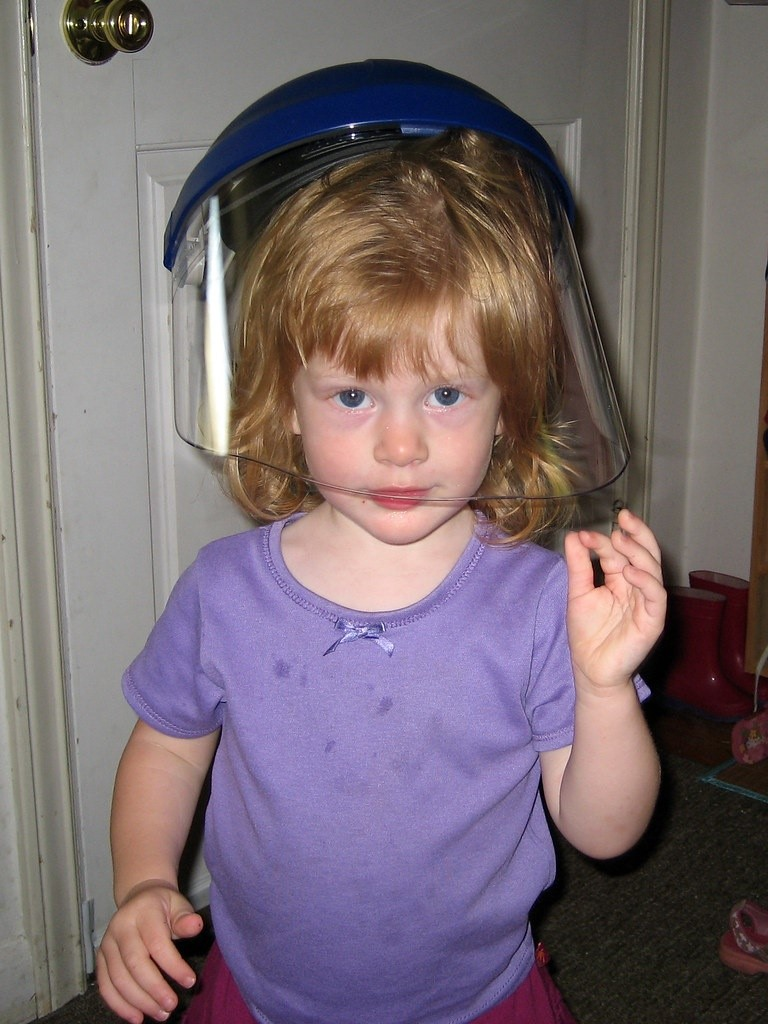face_no_mask: (280, 252, 511, 542)
